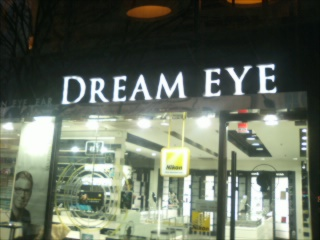sign_readable: (55, 63, 279, 106)
